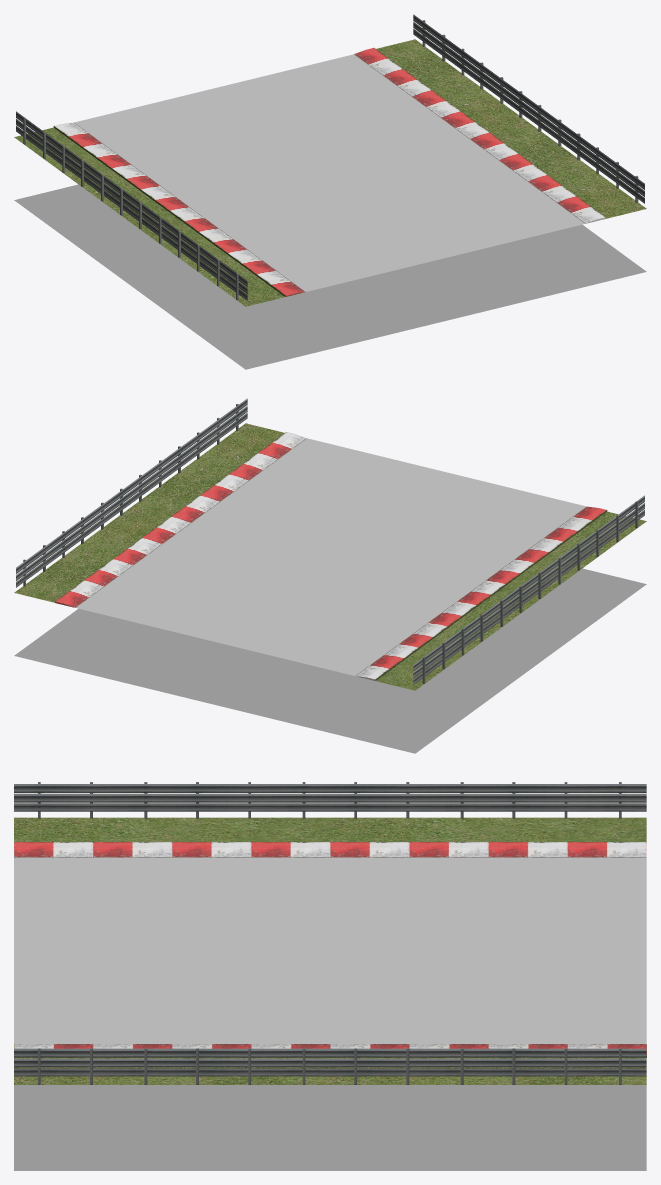
Rendered from Track_Straight_Mobile.fbx.
3 renders of one model, top to bottom at view 1: azimuth 30°, elevation 25°; view 2: azimuth 150°, elevation 25°; view 3: azimuth 270°, elevation 25°, orthographic. The views are drawn at different scales.
Visible parts, largest first — view 1: Road, Snap_Plane_Invisible, Grass, Curb_B, Rail_B, Rail_A, Carb_A; view 2: Road, Snap_Plane_Invisible, Grass, Curb_B, Rail_A, Rail_B, Carb_A; view 3: Road, Snap_Plane_Invisible, Grass, Rail_B, Rail_A, Carb_A, Curb_B.
Part boxes in pixels (x1,y1,x2,y2): Road: (74,54,585,291); Snap_Plane_Invisible: (14,184,646,369); Grass: (14,39,646,306); Curb_B: (354,48,605,223); Rail_B: (413,14,644,203); Rail_A: (16,111,247,300); Carb_A: (53,122,305,296); Road: (76,438,586,675); Snap_Plane_Invisible: (14,568,646,753); Grass: (14,423,646,690); Curb_B: (55,432,306,607); Rail_A: (413,495,644,684); Rail_B: (16,398,247,587); Carb_A: (355,506,607,680); Road: (14,857,646,1044); Snap_Plane_Invisible: (14,1085,646,1170); Grass: (14,817,646,1084); Rail_B: (14,1048,646,1084); Rail_A: (14,782,646,818); Carb_A: (14,842,646,857); Curb_B: (14,1044,646,1057).
Bounding box in the file's own units: 20 × 4.24 × 20.01.
